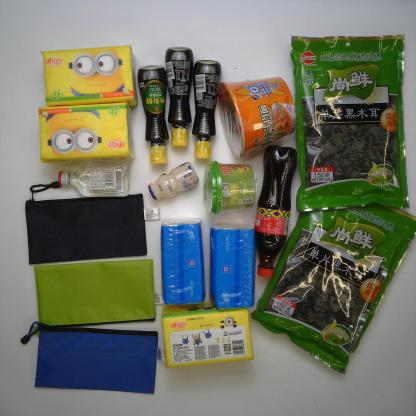Alcohol: (56, 160, 132, 200)
Dried Food: (250, 206, 415, 376), (286, 30, 414, 212)
Drink: (253, 144, 297, 280)
Instant Drink: (202, 158, 258, 216)
Instant Noodles: (216, 73, 297, 160)
Milk: (146, 160, 202, 202)
Seasoner: (136, 62, 171, 169), (190, 57, 223, 162), (163, 45, 195, 149)
Stationery: (20, 320, 160, 399), (24, 180, 150, 266), (32, 256, 159, 326)
Tissue: (40, 43, 141, 109), (160, 301, 256, 369), (37, 100, 136, 165), (158, 217, 208, 306), (208, 221, 257, 310)
